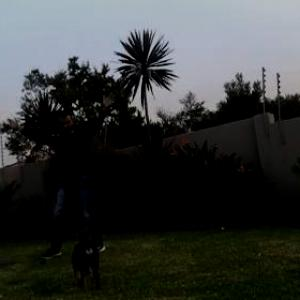takeoff: (15, 88, 110, 258)
